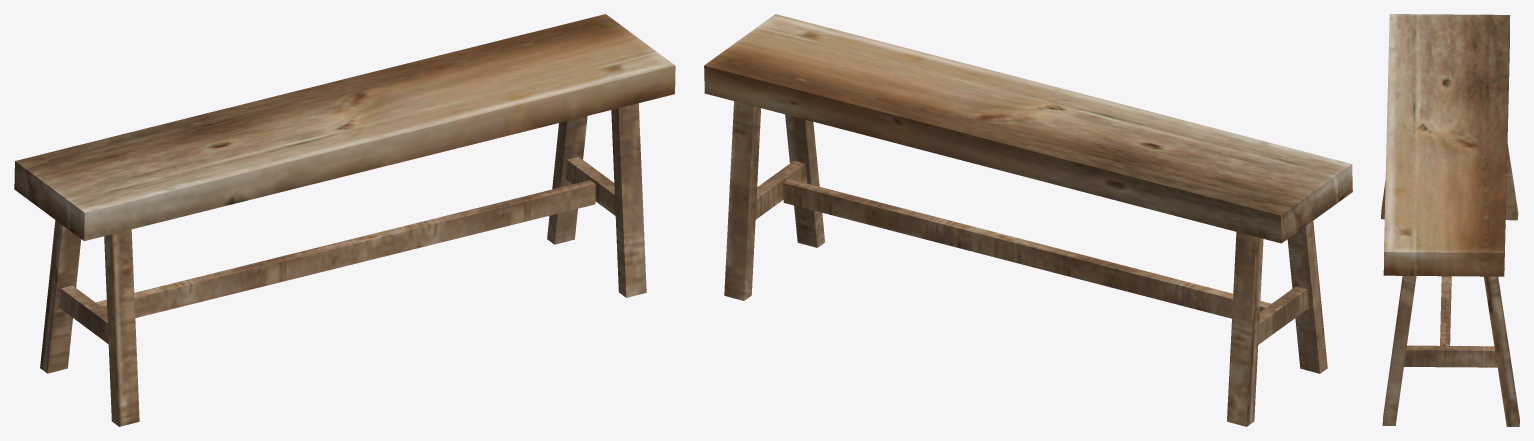
The model's file is Chair.FBX.
3 renders of one model, left to right at view 1: azimuth 30°, elevation 25°; view 2: azimuth 150°, elevation 25°; view 3: azimuth 270°, elevation 25°, orthographic. The views are drawn at different scales.
Parts seen in each view (by area): view 1: Chair; view 2: Chair; view 3: Chair.
Boxes of the visible parts, box(x1,y1,x2,y2) form: Chair: box(14, 14, 675, 426); Chair: box(704, 14, 1352, 426); Chair: box(1381, 14, 1519, 426).
Size of the model in its own units: 310 by 113 by 74.45.
1 material, 1 textured.
